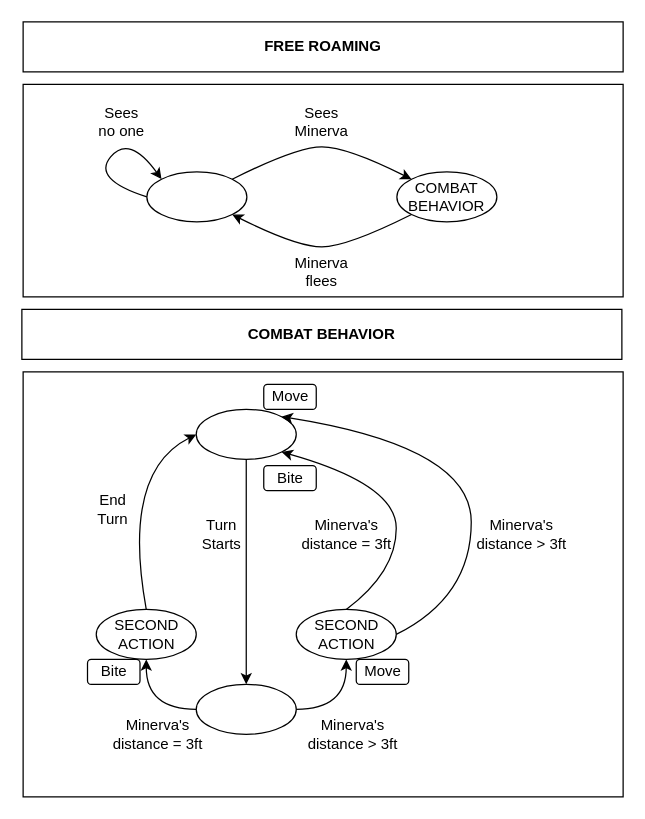
This 645x819 diagram has some shape labels left out. The shapes that lost their labels are listed below. From the top down, each one's centre as x and y in pixels, then its label:
At [196,196]: "IDLE".
At [245,433]: "WAIT TURN".
At [245,708]: "FIRST ACTION".
